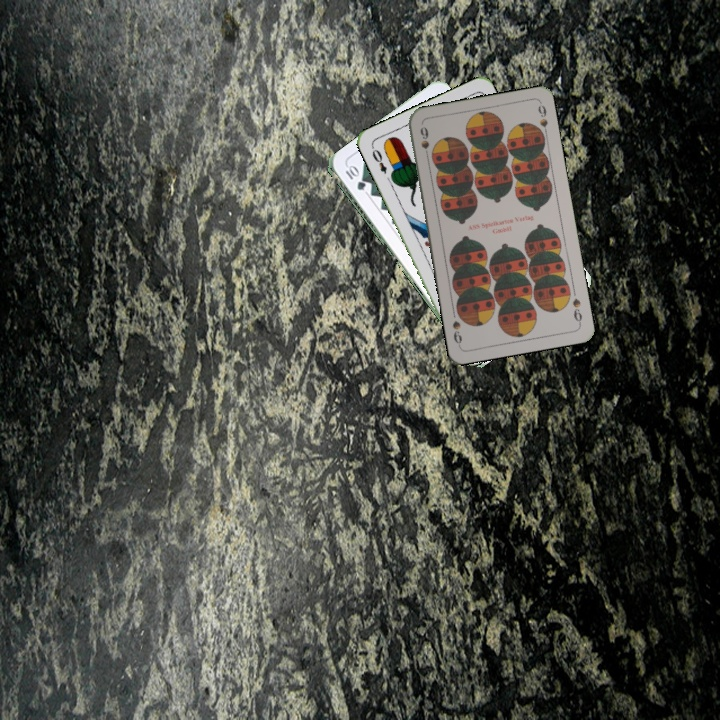EO: (368, 145, 389, 176)
G10: (341, 162, 367, 193)
S9: (416, 122, 432, 162), (568, 294, 585, 327)
